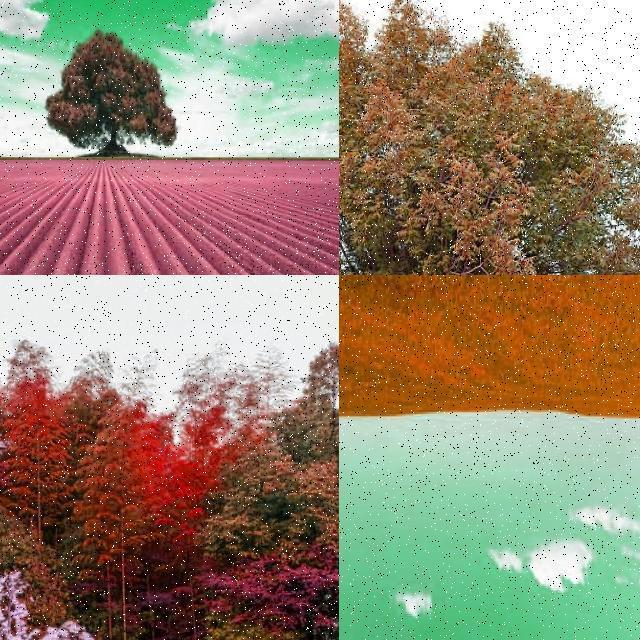tree: (339, 0, 640, 275), (71, 395, 173, 609), (339, 427, 441, 640), (46, 27, 178, 157), (6, 393, 70, 522), (294, 339, 338, 517)
